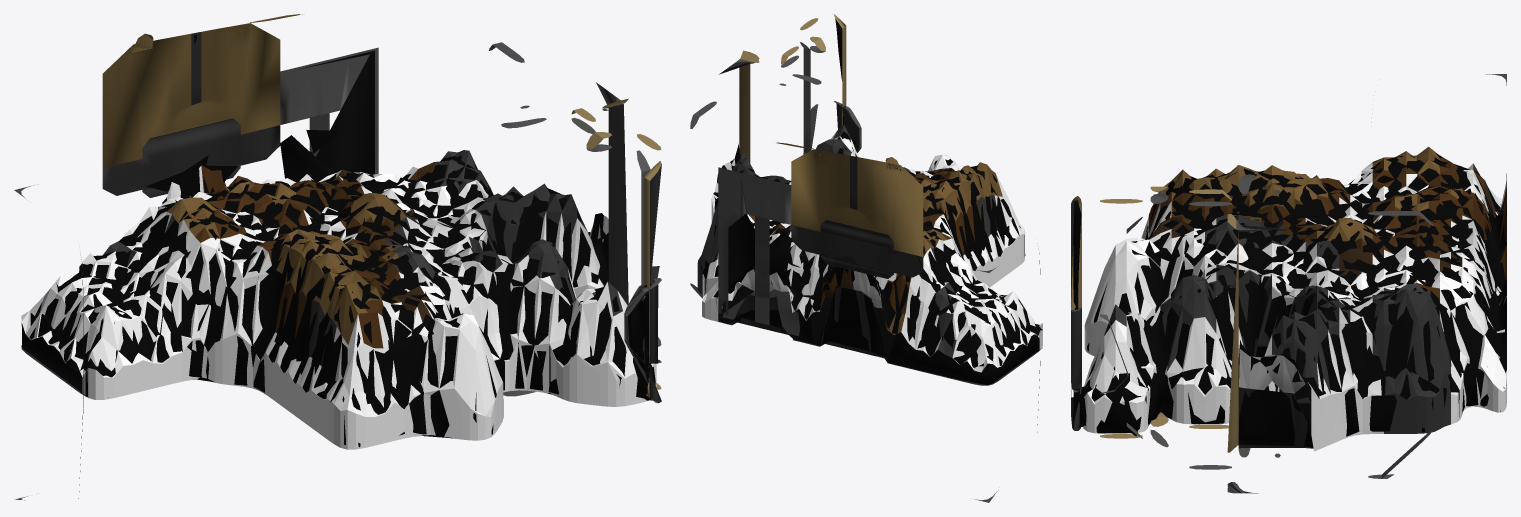
Rendered from newsh4-92-d.glb.
3 views of the same model, side by side, from view 1: azimuth 30°, elevation 25°; view 2: azimuth 150°, elevation 25°; view 3: azimuth 270°, elevation 25° (orthographic). The views are drawn at different scales.
Parts seen in each view (by area): view 1: newsh4-92, newsh4-92_outline; view 2: newsh4-92, newsh4-92_outline; view 3: newsh4-92, newsh4-92_outline.
Boxes of the visible parts, <box> form: newsh4-92: <box>14,14,661,500</box>; newsh4-92_outline: <box>21,35,655,447</box>; newsh4-92: <box>690,14,1042,502</box>; newsh4-92_outline: <box>699,18,1042,385</box>; newsh4-92: <box>1071,74,1506,493</box>; newsh4-92_outline: <box>1073,153,1506,447</box>.
Size of the model in its own units: 2 by 1.75 by 1.62.
Materials: 16 (15 with a texture image).
